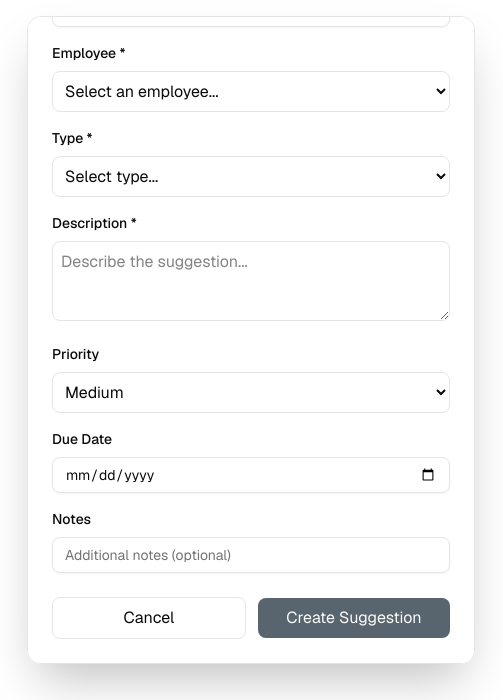
Test: SuggestionModal › Form Validation › clears validation errors when form is filled correctly
(page scrolled)
Click the button "Create Suggestion". click: (354, 618)
box: [258,598,450,638]
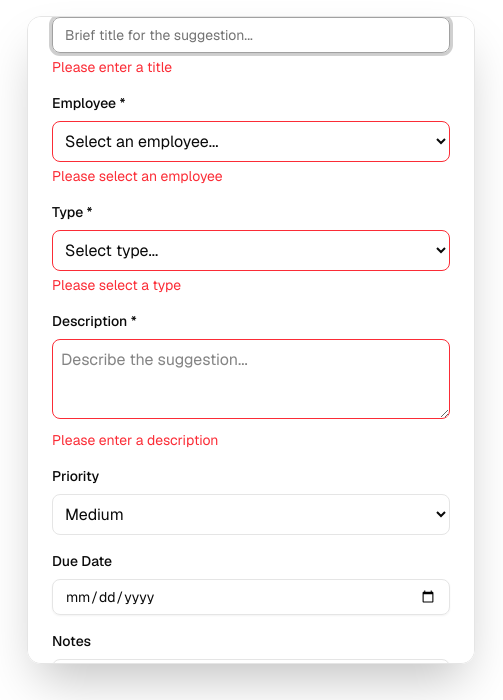
Now the text "Please select an employee" is shown, box [52,167,223,185]
Type "Test Title" into the field with placeholder "Brief title for the suggestion...". click: (251, 35)
box: [52,17,450,53]
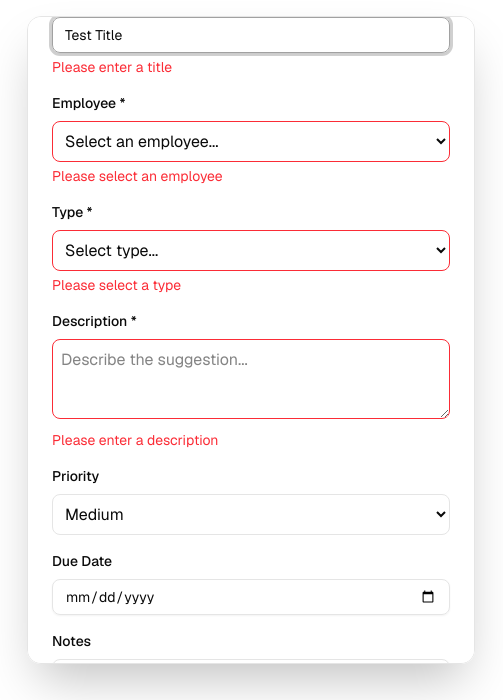
Select "John Doe - Engineering" in the dropdown showing "Select an employee..." below "Employee *". click: (251, 142)
box: [52,121,450,162]
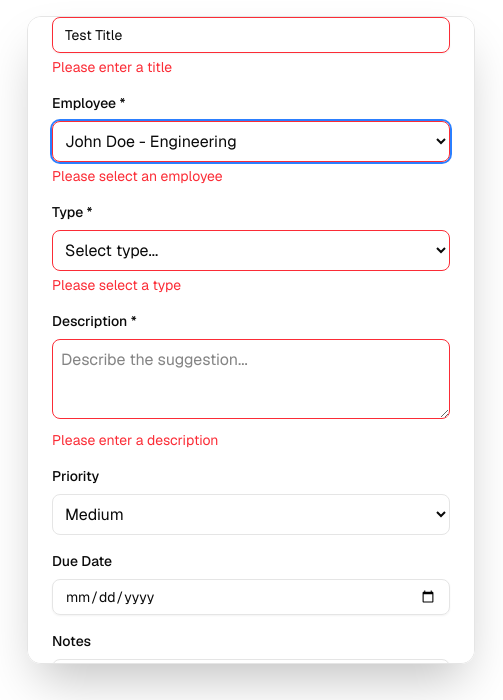
Select "Equipment" in the dropdown showing "Select type..." below "Type *". click: (251, 250)
box: [52,230,450,271]
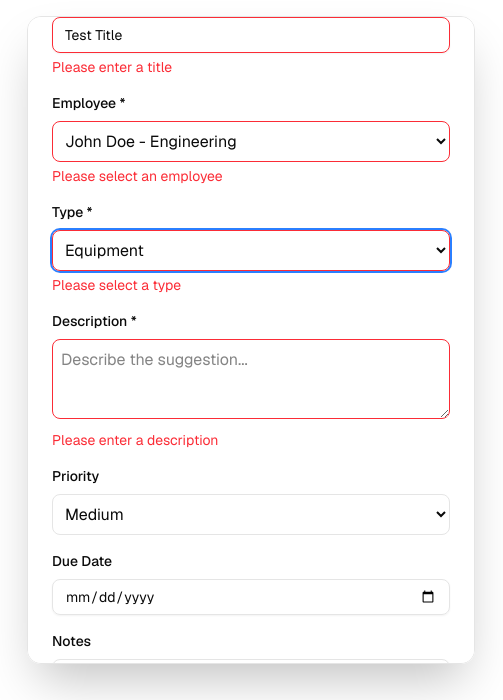
Type "Test description" into the text box with placeholder "Describe the suggestion...". click: (251, 379)
box: [52,339,450,419]
(page scrolled)
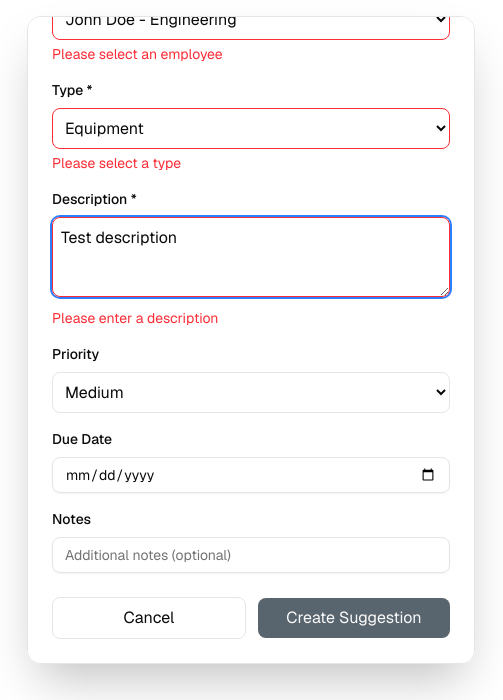
Click the button "Create Suggestion". click: (354, 618)
box: [258,598,450,638]
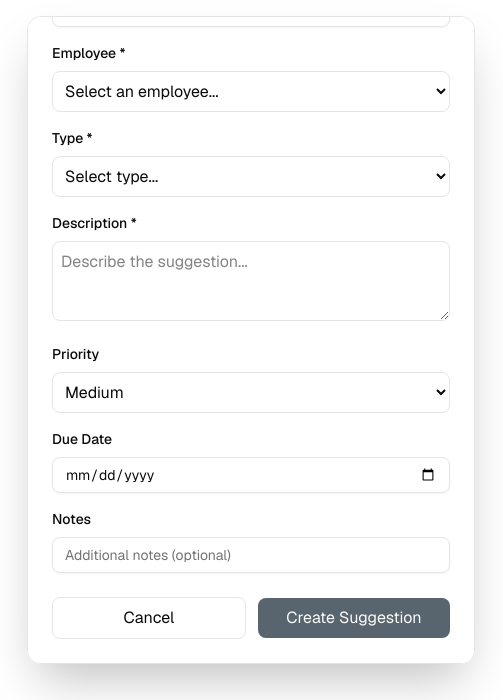
Now the text "Please select an employee" is gone
